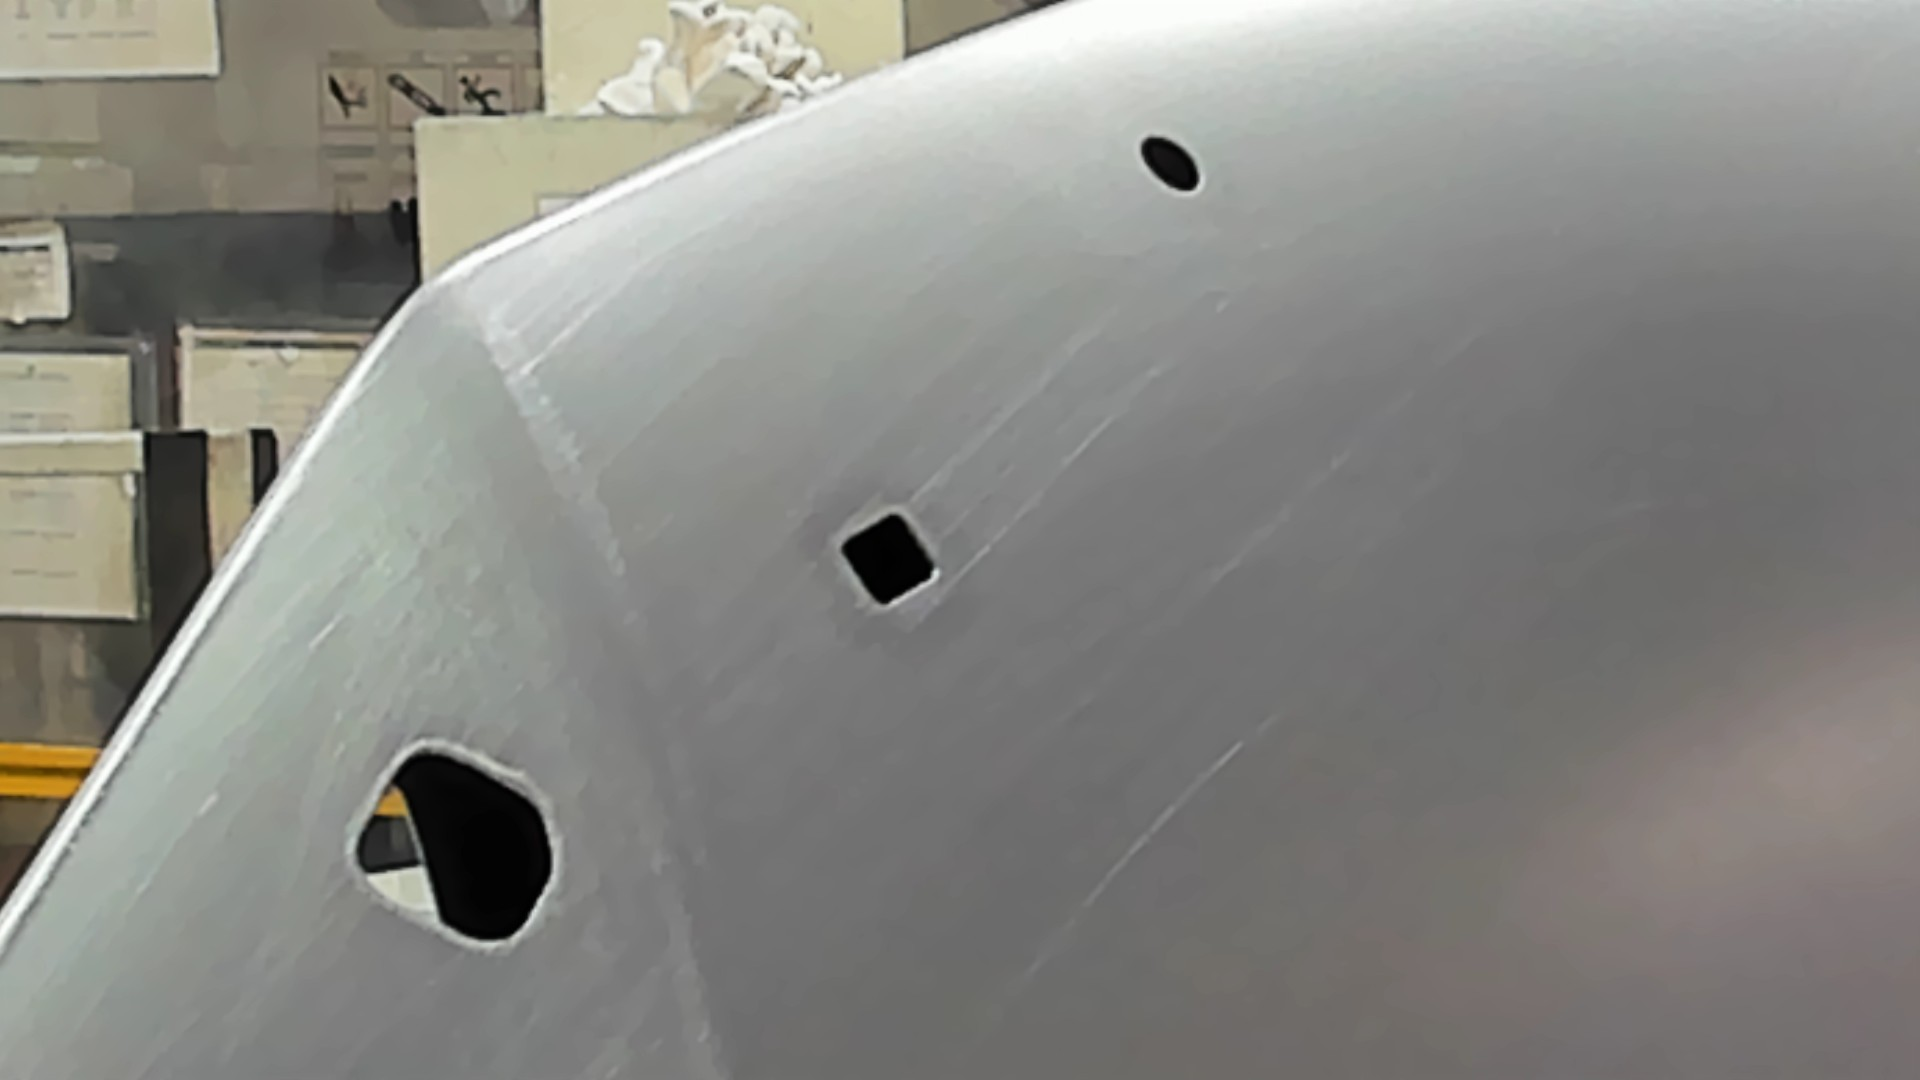capo: (951, 200, 1920, 1080)
chico: (1137, 131, 1203, 195)
grande: (342, 737, 566, 959)
mediano: (824, 506, 945, 615)
